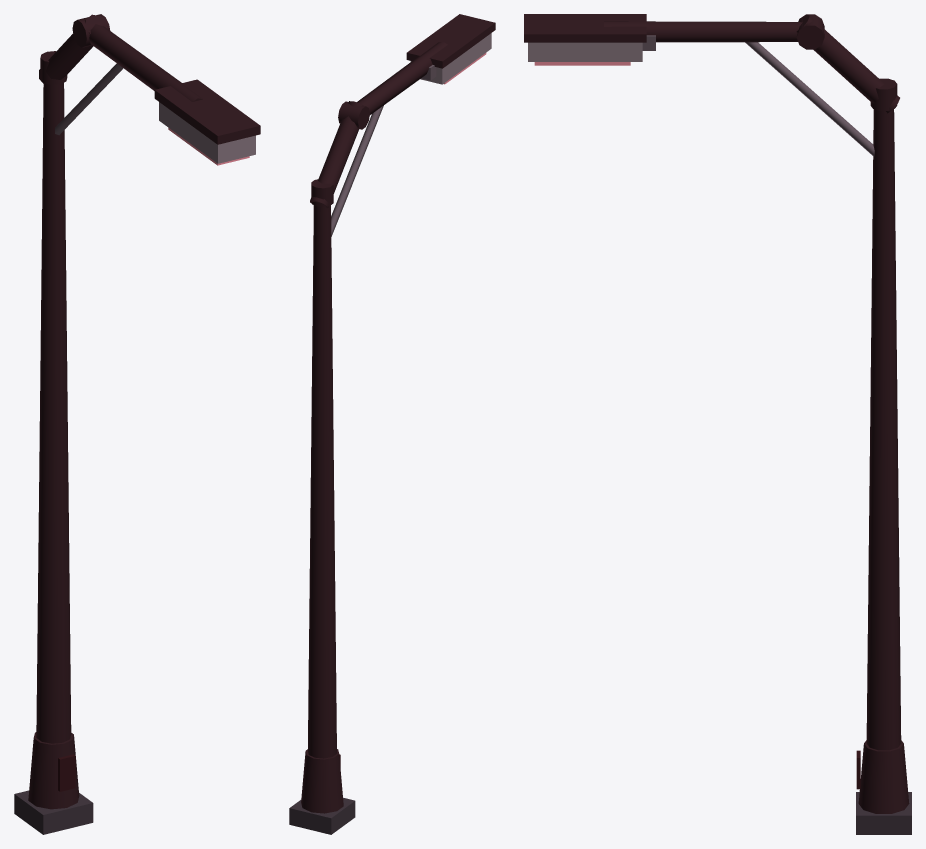
The model's file is SM_StreetLight_01.obj.
3 views of the same model, side by side, from view 1: azimuth 30°, elevation 25°; view 2: azimuth 150°, elevation 25°; view 3: azimuth 270°, elevation 25° (orthographic). The views are drawn at different scales.
Parts seen in each view (by area): view 1: pole_shaft, lamp_hood, base_collar, arm_run, base_plinth, lamp_housing, arm_rise, arm_brace, access_hatch, arm_elbow_boss; view 2: pole_shaft, lamp_hood, base_collar, arm_run, arm_rise, base_plinth, arm_brace, lamp_housing, arm_elbow_boss, arm_knuckle; view 3: pole_shaft, arm_run, lamp_hood, base_collar, lamp_housing, arm_rise, arm_brace, base_plinth, arm_elbow_boss.
Boxes of the visible parts, x1=… form: pole_shaft: x1=36, y1=83, x2=71, y2=743; lamp_hood: x1=154, y1=79, x2=260, y2=144; base_collar: x1=28, y1=732, x2=79, y2=809; arm_run: x1=89, y1=24, x2=202, y2=101; base_plinth: x1=14, y1=790, x2=93, y2=834; lamp_housing: x1=159, y1=102, x2=255, y2=163; arm_rise: x1=39, y1=14, x2=106, y2=83; arm_brace: x1=55, y1=63, x2=123, y2=135; access_hatch: x1=58, y1=754, x2=75, y2=791; arm_elbow_boss: x1=72, y1=14, x2=110, y2=47; pole_shaft: x1=307, y1=205, x2=336, y2=758; lamp_hood: x1=406, y1=14, x2=495, y2=68; base_collar: x1=301, y1=749, x2=343, y2=813; arm_run: x1=357, y1=41, x2=447, y2=115; arm_rise: x1=310, y1=101, x2=363, y2=208; base_plinth: x1=289, y1=797, x2=355, y2=834; arm_brace: x1=331, y1=105, x2=383, y2=236; lamp_housing: x1=410, y1=33, x2=491, y2=84; arm_elbow_boss: x1=338, y1=101, x2=369, y2=129; arm_knuckle: x1=311, y1=179, x2=333, y2=206; pole_shaft: x1=866, y1=109, x2=901, y2=750; arm_run: x1=604, y1=21, x2=802, y2=42; lamp_hood: x1=524, y1=14, x2=646, y2=42; base_collar: x1=858, y1=740, x2=909, y2=813; lamp_housing: x1=528, y1=42, x2=642, y2=61; arm_rise: x1=796, y1=14, x2=899, y2=113; arm_brace: x1=745, y1=42, x2=874, y2=156; base_plinth: x1=856, y1=792, x2=911, y2=834; arm_elbow_boss: x1=796, y1=14, x2=824, y2=49.
Size of the model in its own units: 0.42 by 6.68 by 2.91.
